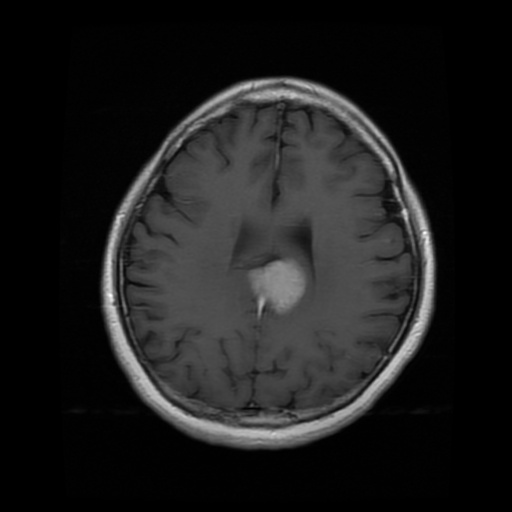meningioma: (249, 257, 306, 315)
